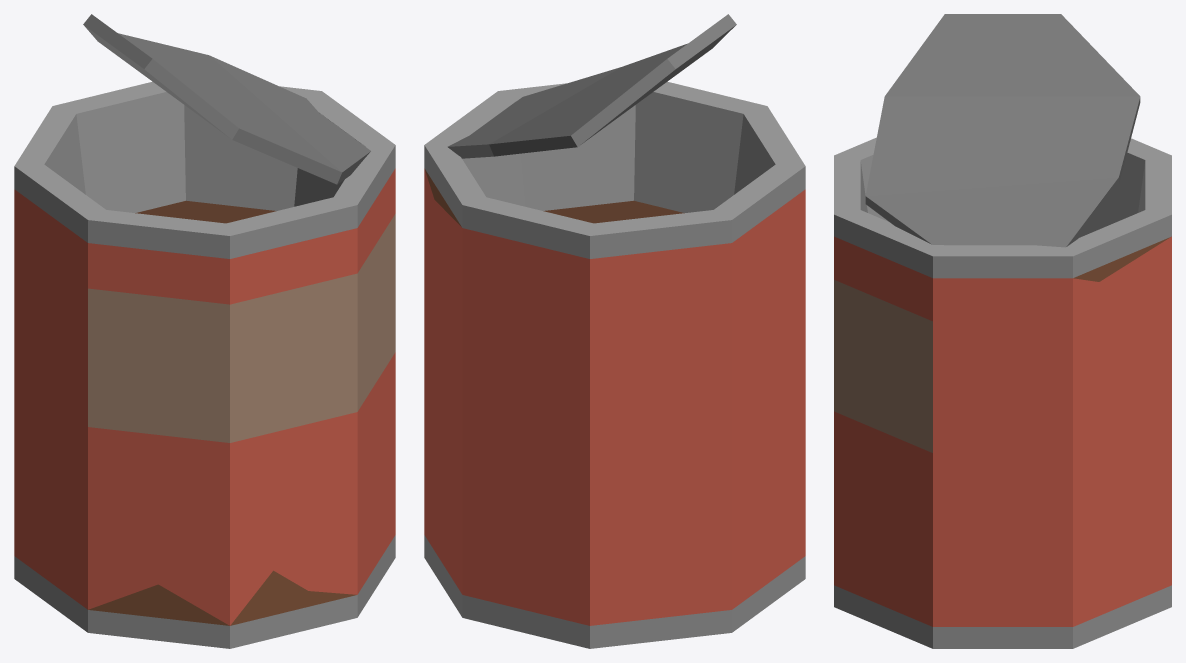
The model's file is SM_Props_Garbage_08.fbx.
The picture shows the model from 3 angles, left to right: view 1: azimuth 30°, elevation 25°; view 2: azimuth 150°, elevation 25°; view 3: azimuth 270°, elevation 25°; orthographic projection. The views are drawn at different scales.
Visible parts, largest first — view 1: SM_Props_Garbage_08; view 2: SM_Props_Garbage_08; view 3: SM_Props_Garbage_08.
Part boxes in pixels (<box>): SM_Props_Garbage_08: <box>14,14,395,648</box>; SM_Props_Garbage_08: <box>424,14,805,648</box>; SM_Props_Garbage_08: <box>834,14,1171,648</box>.
Size of the model in its own units: 0.1156 by 0.1983 by 0.1156.
